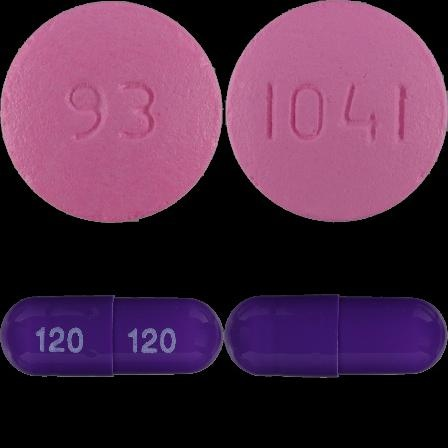68682-103: (0, 0, 224, 224)
